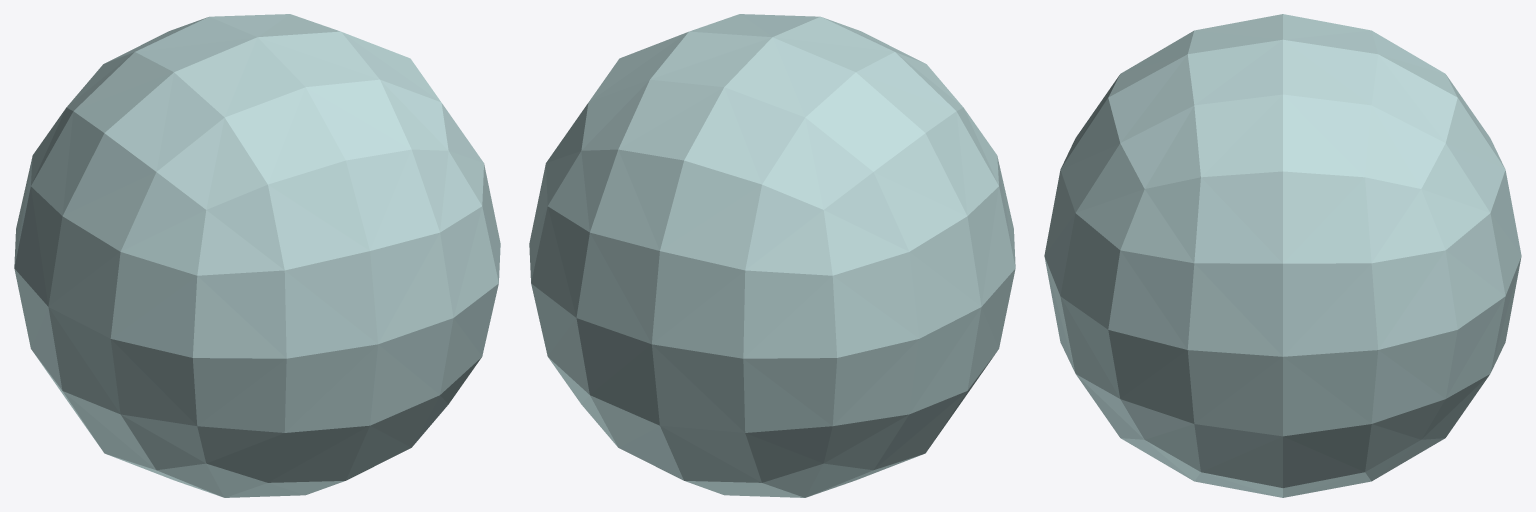
Rendered from KeyBlue.fbx.
3 views of the same model, side by side, from view 1: azimuth 30°, elevation 25°; view 2: azimuth 150°, elevation 25°; view 3: azimuth 270°, elevation 25° (orthographic).
Parts seen in each view (by area): view 1: KeyBlue; view 2: KeyBlue; view 3: KeyBlue.
Part boxes in pixels (x1,y1,x2,y2): KeyBlue: (14, 14, 500, 497); KeyBlue: (529, 14, 1015, 497); KeyBlue: (1044, 14, 1521, 497).
Size of the model in its own units: 100 by 100 by 100.
